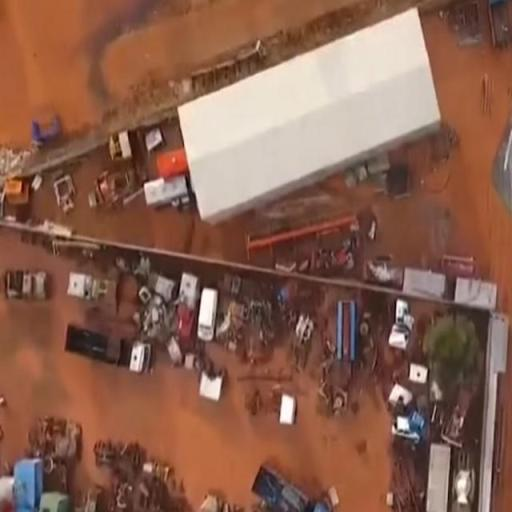flood: (0, 233, 392, 512), (422, 0, 512, 512), (102, 0, 359, 101), (0, 0, 143, 145)
house: (178, 6, 448, 220)
